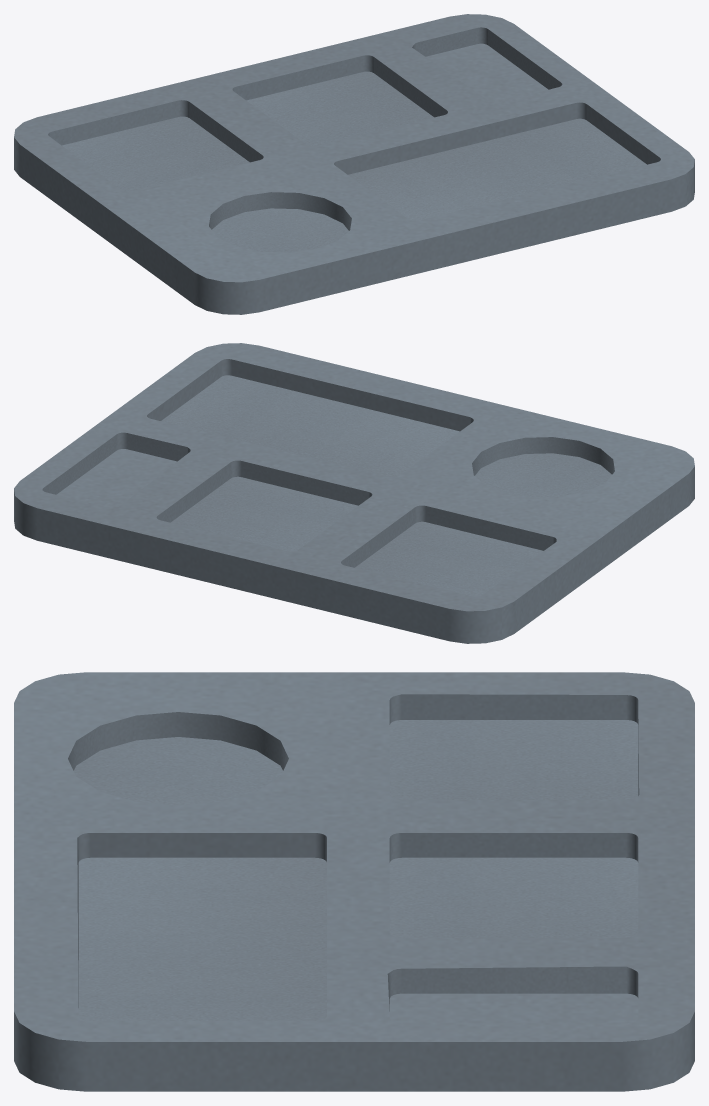
File: plate.fbx
3 renders of one model, top to bottom at view 1: azimuth 30°, elevation 25°; view 2: azimuth 150°, elevation 25°; view 3: azimuth 270°, elevation 25°, orthographic. The views are drawn at different scales.
Visible parts, largest first — view 1: plate; view 2: plate; view 3: plate.
Part boxes in pixels (left/top/right/bottom): plate: left=14, top=14, right=694, bottom=314; plate: left=14, top=343, right=694, bottom=643; plate: left=14, top=672, right=694, bottom=1091.
Size of the model in its own units: 45.38 by 2.85 by 35.34.
1 material, 1 textured.
